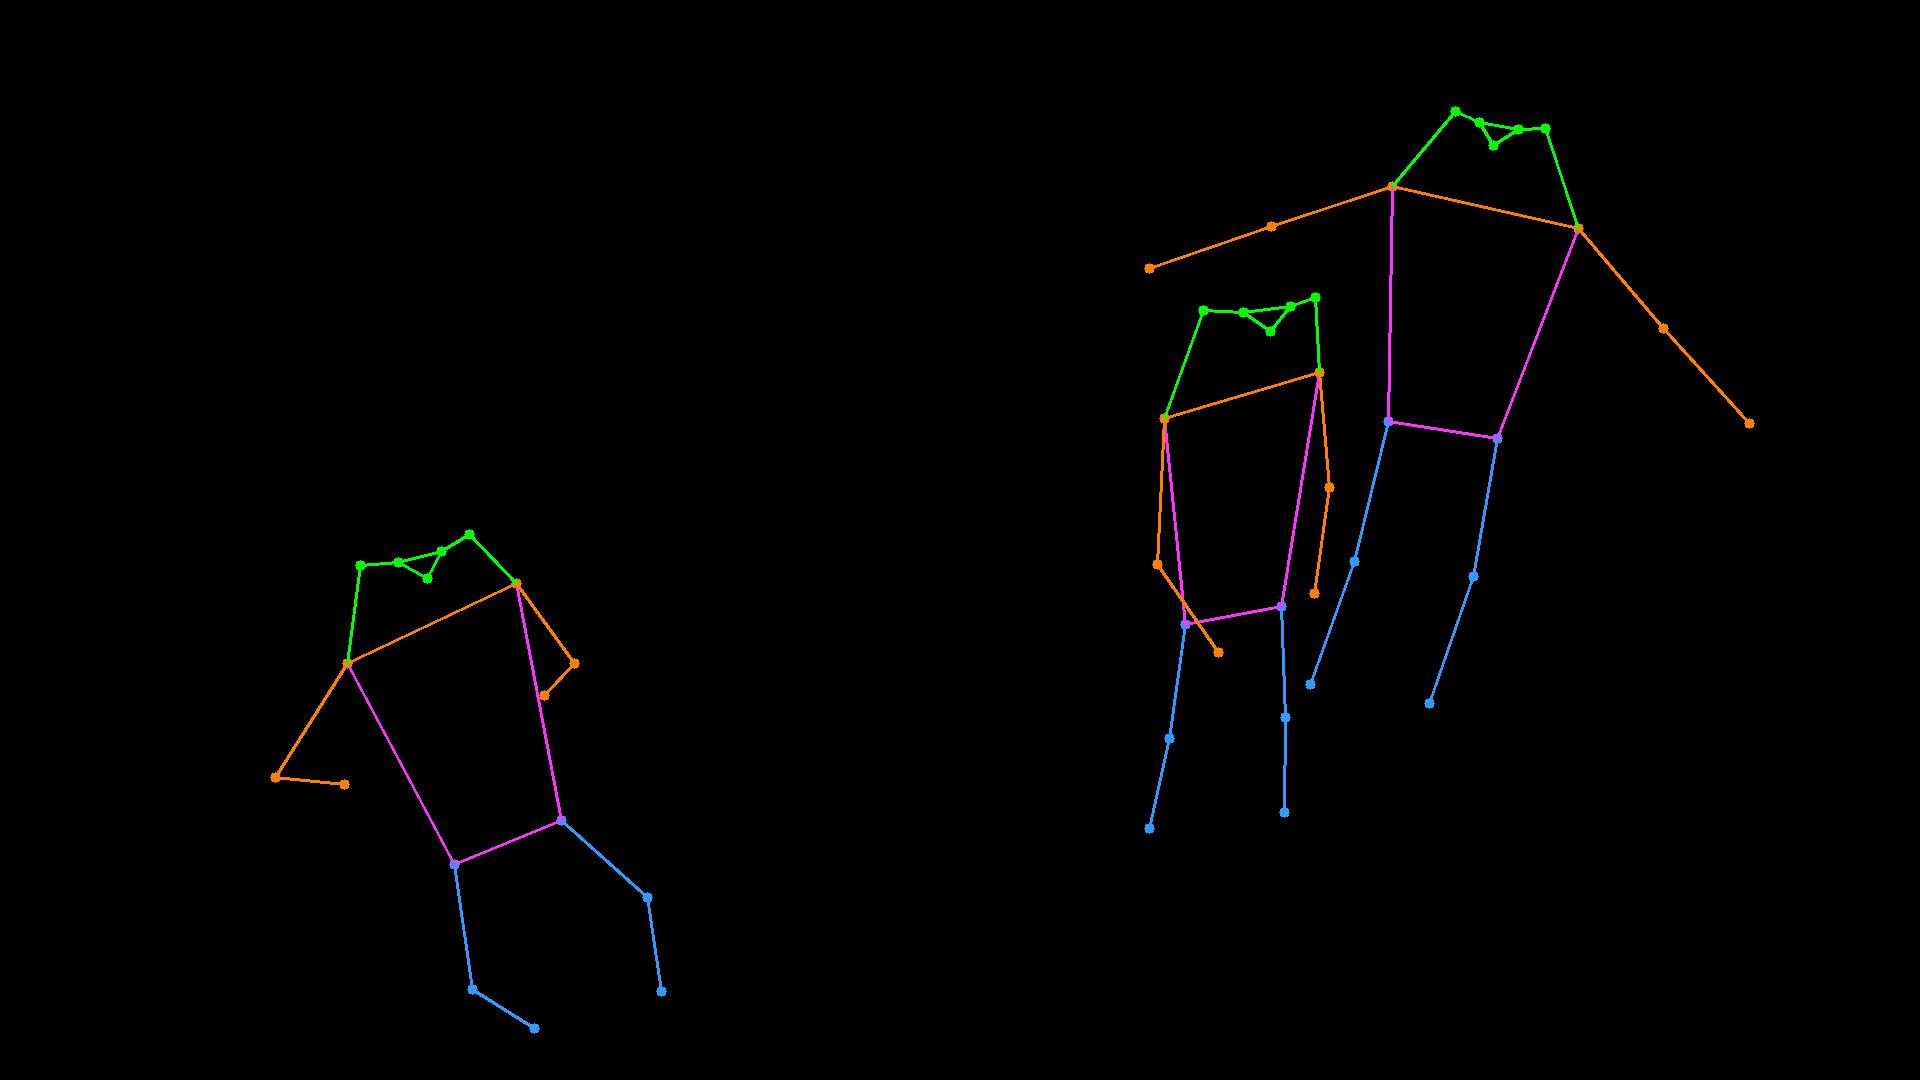normal: (1056, 67, 1774, 881), (229, 524, 705, 1044)
